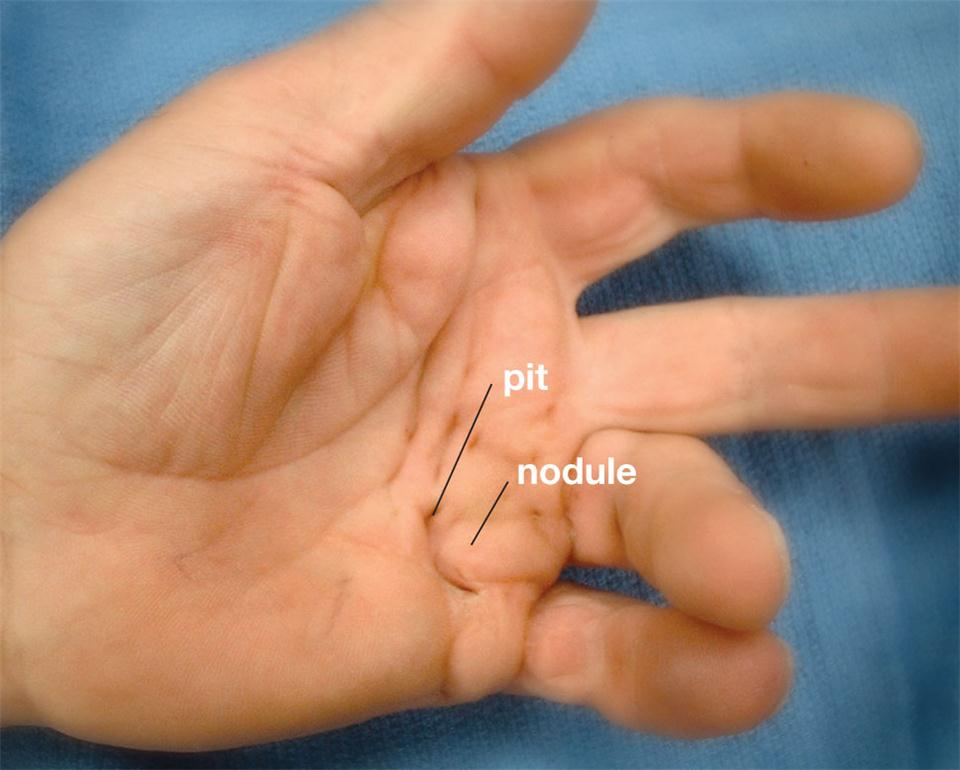finger: (546, 63, 924, 304), (582, 293, 947, 437), (525, 584, 824, 755), (564, 427, 833, 616)
